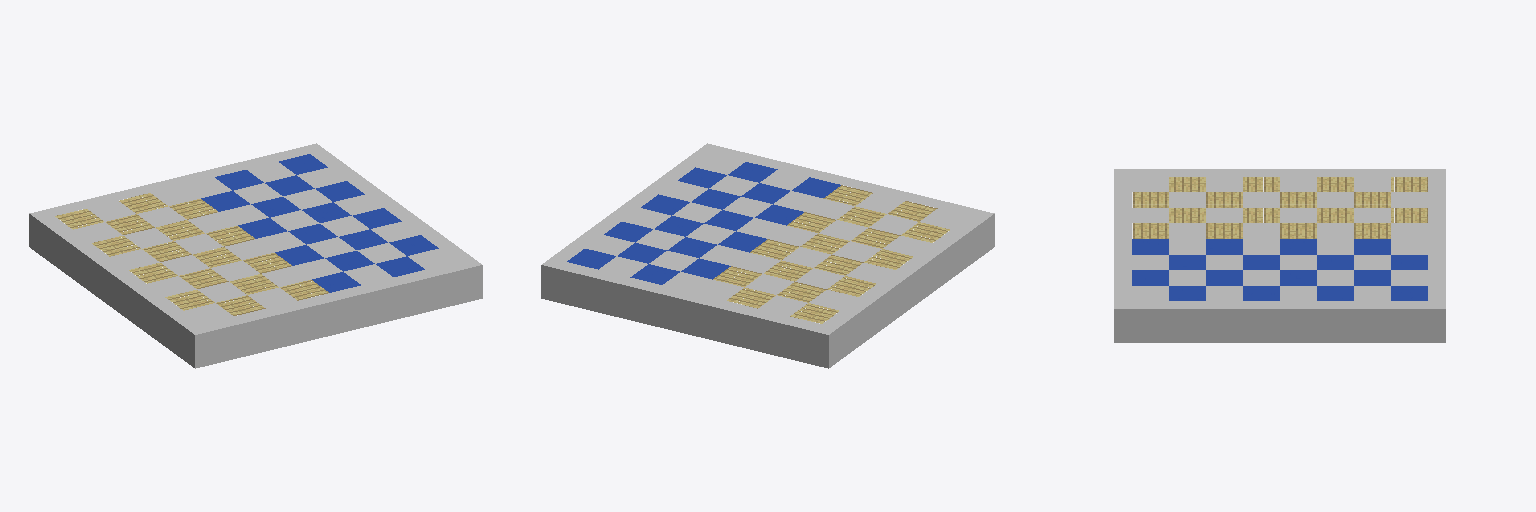
3 renders of one model, left to right at view 1: azimuth 30°, elevation 25°; view 2: azimuth 150°, elevation 25°; view 3: azimuth 270°, elevation 25°, orthographic.
Parts seen in each view (by area): view 1: Tablero; view 2: Tablero; view 3: Tablero.
Part boxes in pixels (left/top/right/bottom): Tablero: left=29, top=143, right=482, bottom=368; Tablero: left=541, top=143, right=994, bottom=368; Tablero: left=1114, top=169, right=1445, bottom=342.
Size of the model in its own units: 3.6 by 0.4054 by 3.6.
7 materials, 2 textured.